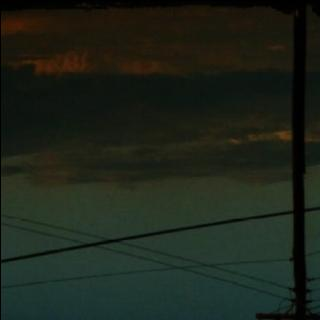Stratocumulus: (0, 3, 320, 204)
